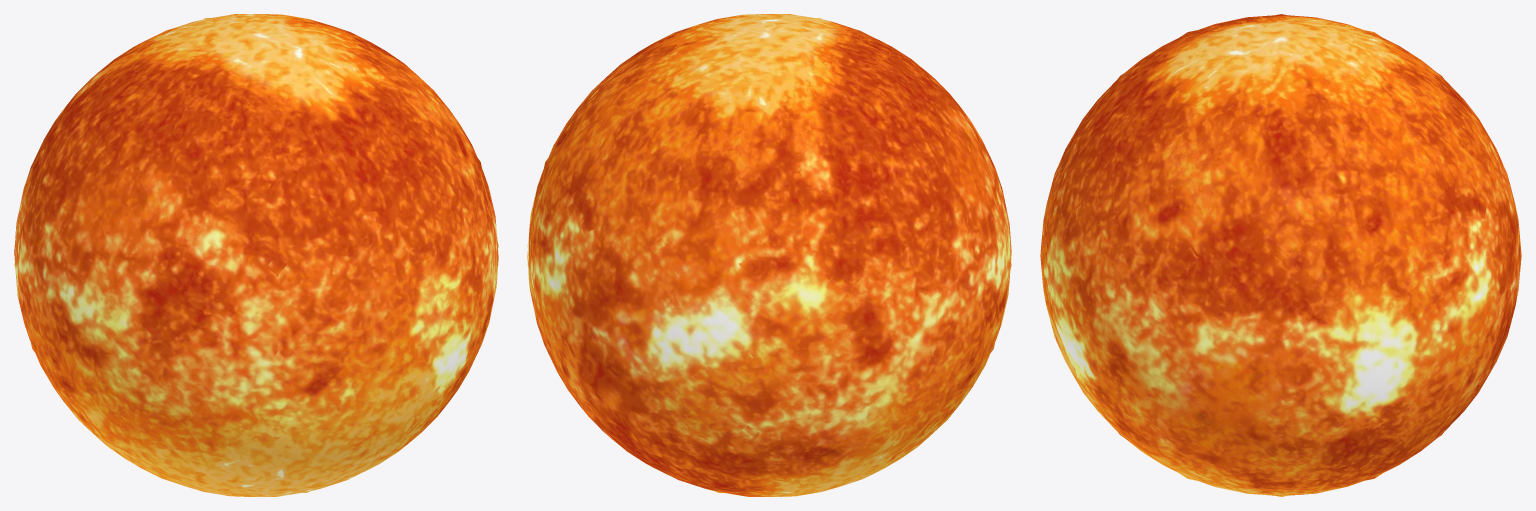
Rendered from star-transformed.glb.
3 views of the same model, side by side, from view 1: azimuth 30°, elevation 25°; view 2: azimuth 150°, elevation 25°; view 3: azimuth 270°, elevation 25° (orthographic).
Visible parts, largest first — view 1: Sun_LOD0__0; view 2: Sun_LOD0__0; view 3: Sun_LOD0__0.
Part boxes in pixels (box(x1,y1,x2,y2)): Sun_LOD0__0: box(14, 14, 498, 496); Sun_LOD0__0: box(527, 14, 1011, 496); Sun_LOD0__0: box(1040, 14, 1521, 496).
Bounding box in the file's own units: 5.13 × 5.13 × 5.13.
Materials: 1 (1 with a texture image).
